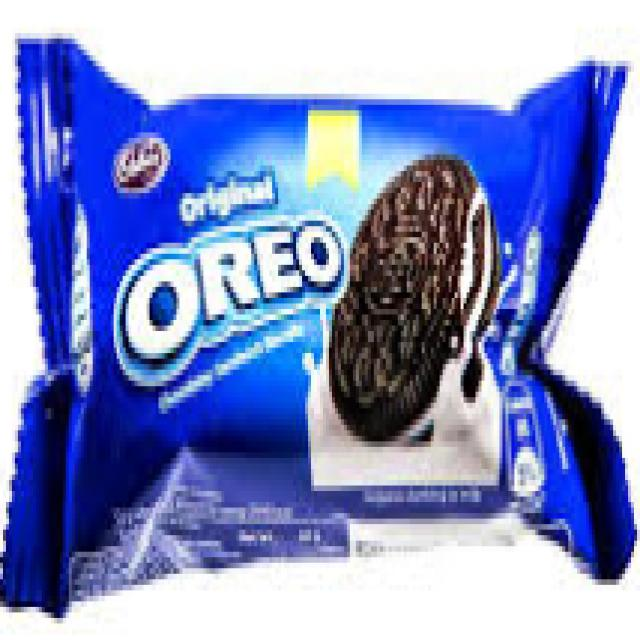oreo: (21, 50, 616, 601)
